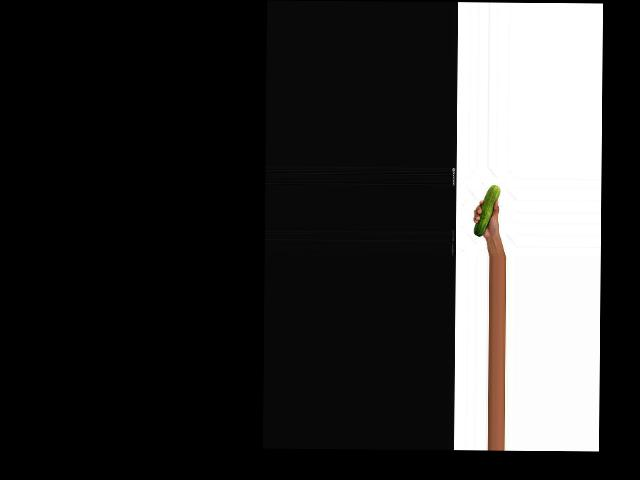cucumber: (473, 185, 500, 237)
